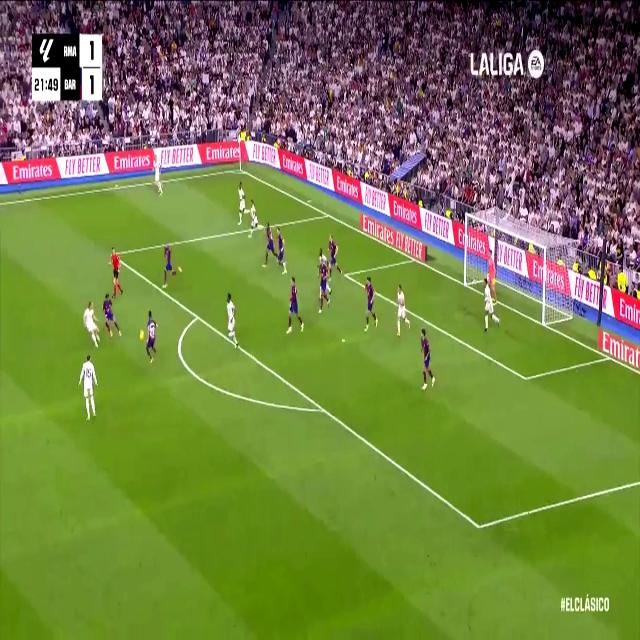bigarea_bottom_inner: (472, 509, 486, 543)
bigarea_top_inner: (114, 248, 120, 262)
bigarea_top_outter: (324, 206, 332, 221)
bottom_arc_area_intersection: (317, 396, 328, 421)
corner: (235, 163, 245, 174)
smallarea_bottom_inner: (521, 367, 530, 389)
smallarea_top_inner: (342, 266, 350, 282)
top_arc_area_intersection: (192, 306, 202, 325)
